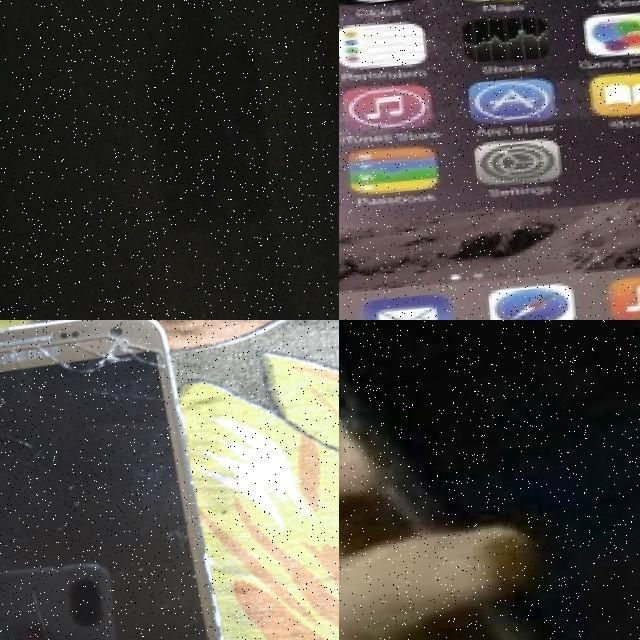screen crack: (0, 320, 193, 424)
